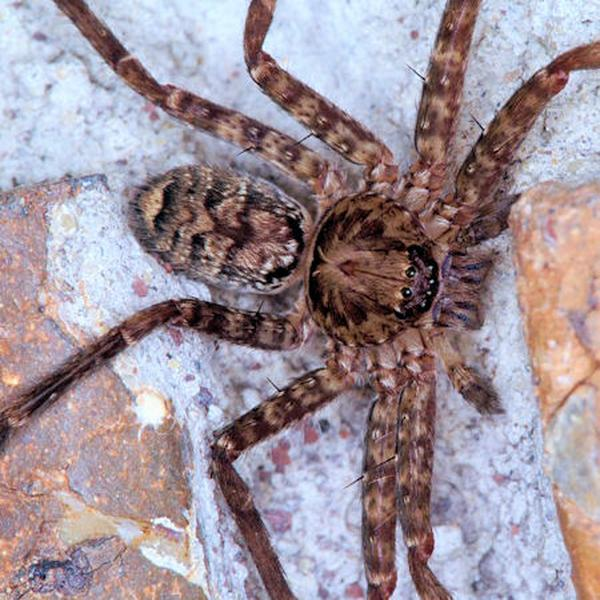Huntsman Spider: (6, 1, 573, 594)
